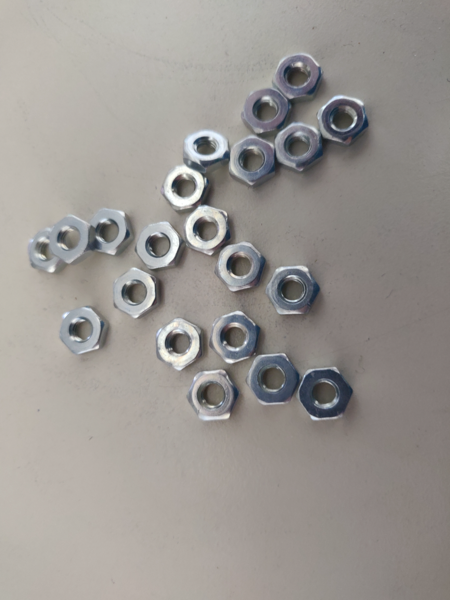nut: (300, 366, 352, 421), (216, 240, 269, 292), (268, 263, 320, 315), (247, 352, 298, 405), (181, 203, 234, 254), (155, 318, 204, 371), (188, 369, 238, 420), (135, 223, 190, 269), (112, 266, 161, 317), (318, 96, 370, 144), (59, 305, 109, 354), (212, 313, 260, 363), (272, 52, 324, 98), (275, 122, 324, 170), (228, 137, 278, 184), (86, 208, 131, 259), (50, 212, 91, 265), (242, 87, 286, 133), (165, 168, 211, 210), (182, 128, 226, 170), (28, 225, 59, 274)
